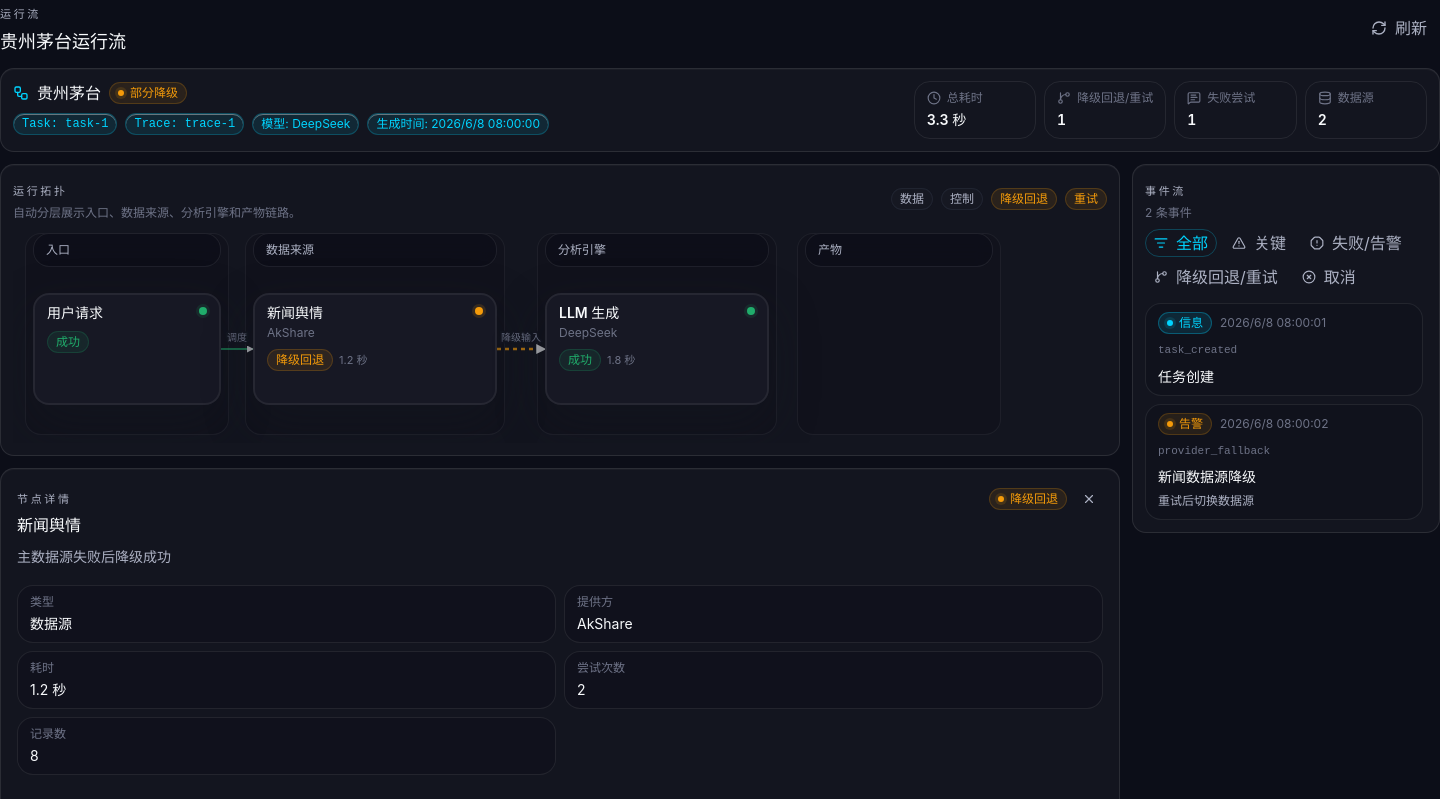
Test: RunFlowPanel › renders a successful graph, event stream, and selectable node details
Check: the heading "贵州茅台运行流" is shown, box [0,28,126,56]
Check: the element with test id "run-flow-graph" is shown, box [0,164,1120,456]
Click the button with aria-label "LLM 生成 节点，状态 成功" at (657, 349), box [545,293,769,405]
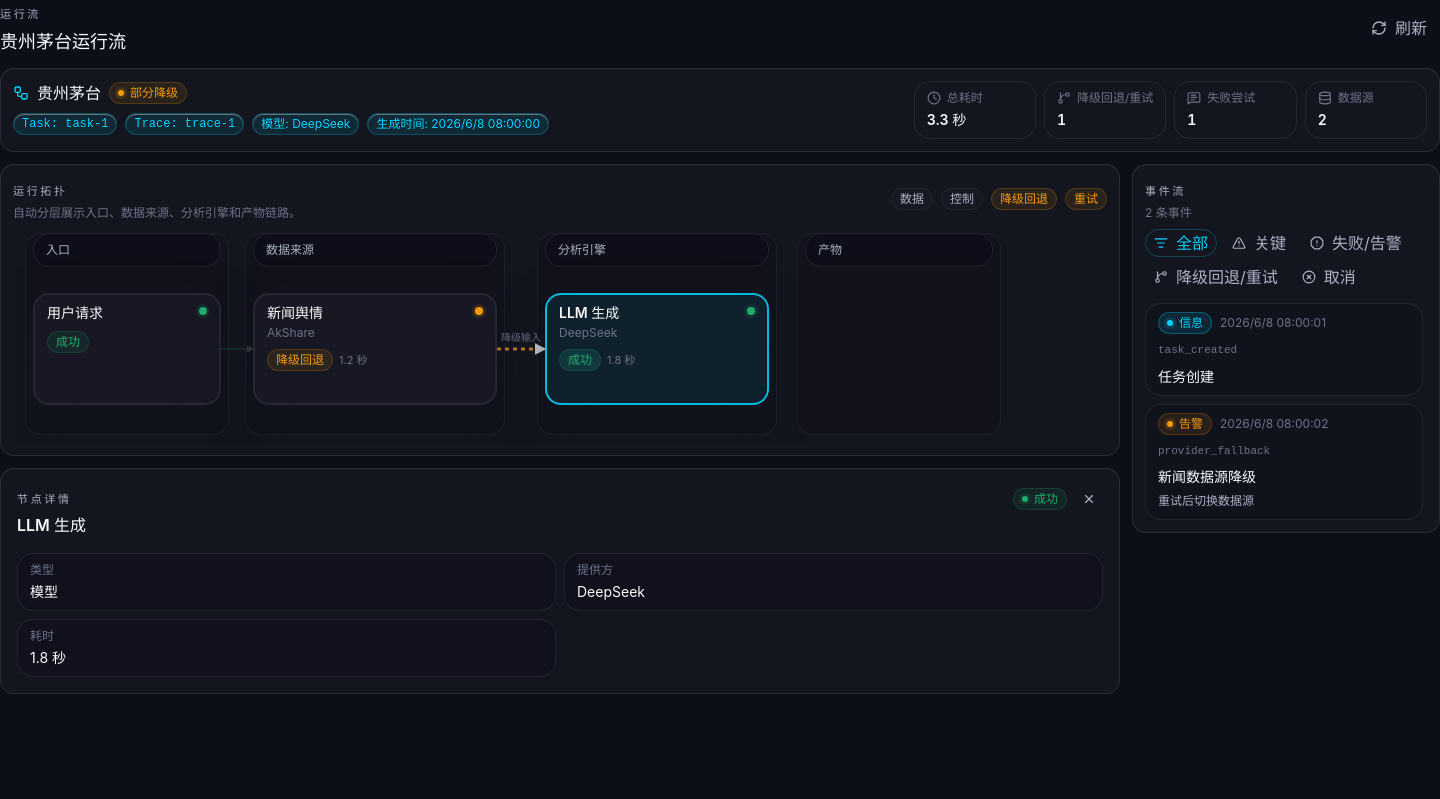
Check: the element with test id "run-flow-node-details" shows "LLM 生成", box [17,515,86,535]
Check: the element with test id "run-flow-node-details" shows "DeepSeek", box [577,583,645,600]
Click the button with aria-label "新闻舆情 节点，状态 降级回退" at (375, 349), box [253,293,497,405]
(page scrolled)
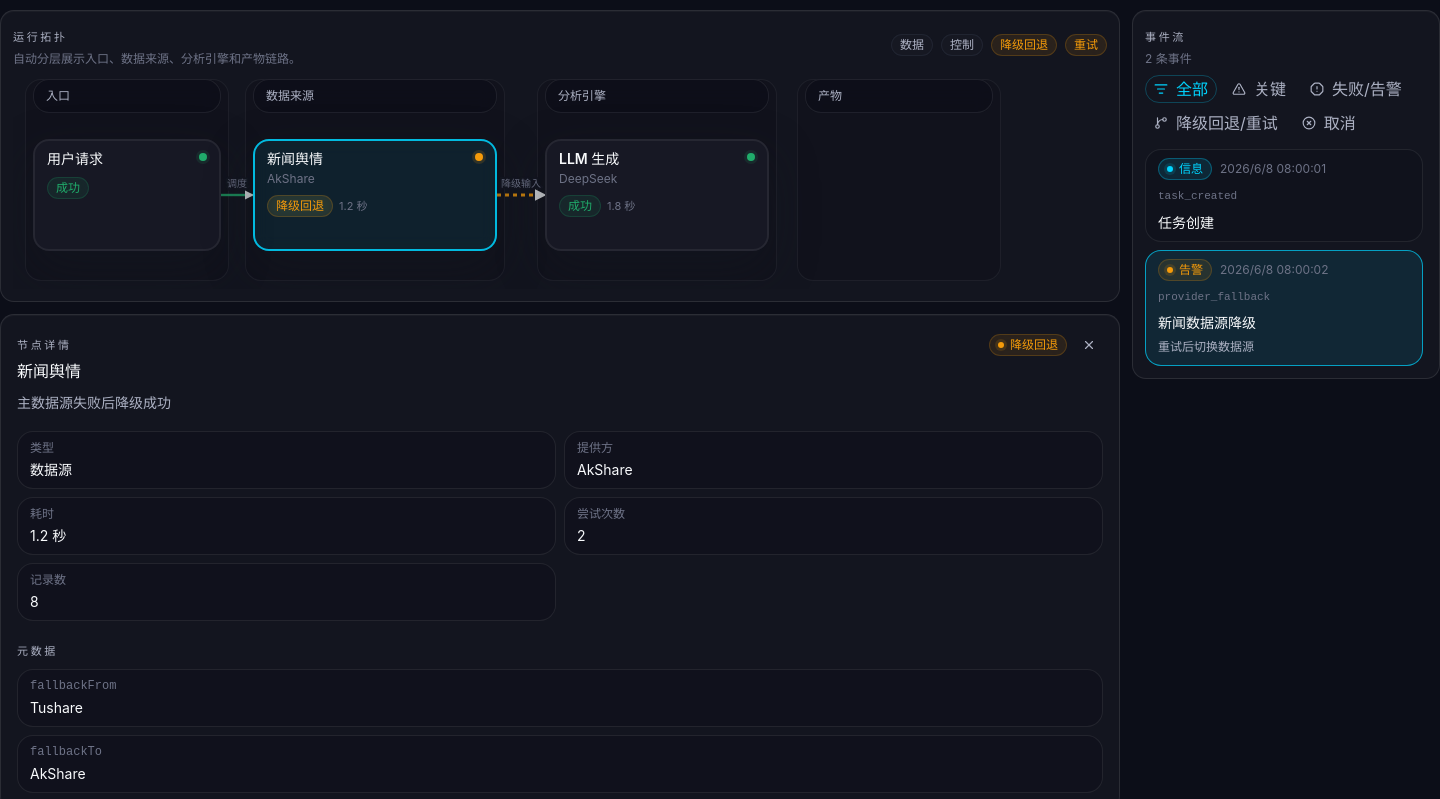
Check: the element with test id "run-flow-node-details" shows "fallbackFrom", box [30,679,116,693]
Check: the element with test id "run-flow-node-details" shows "Tushare", box [30,699,83,716]
Check: the element with test id "run-flow-node-details" shows "fallbackTo", box [30,745,102,759]
